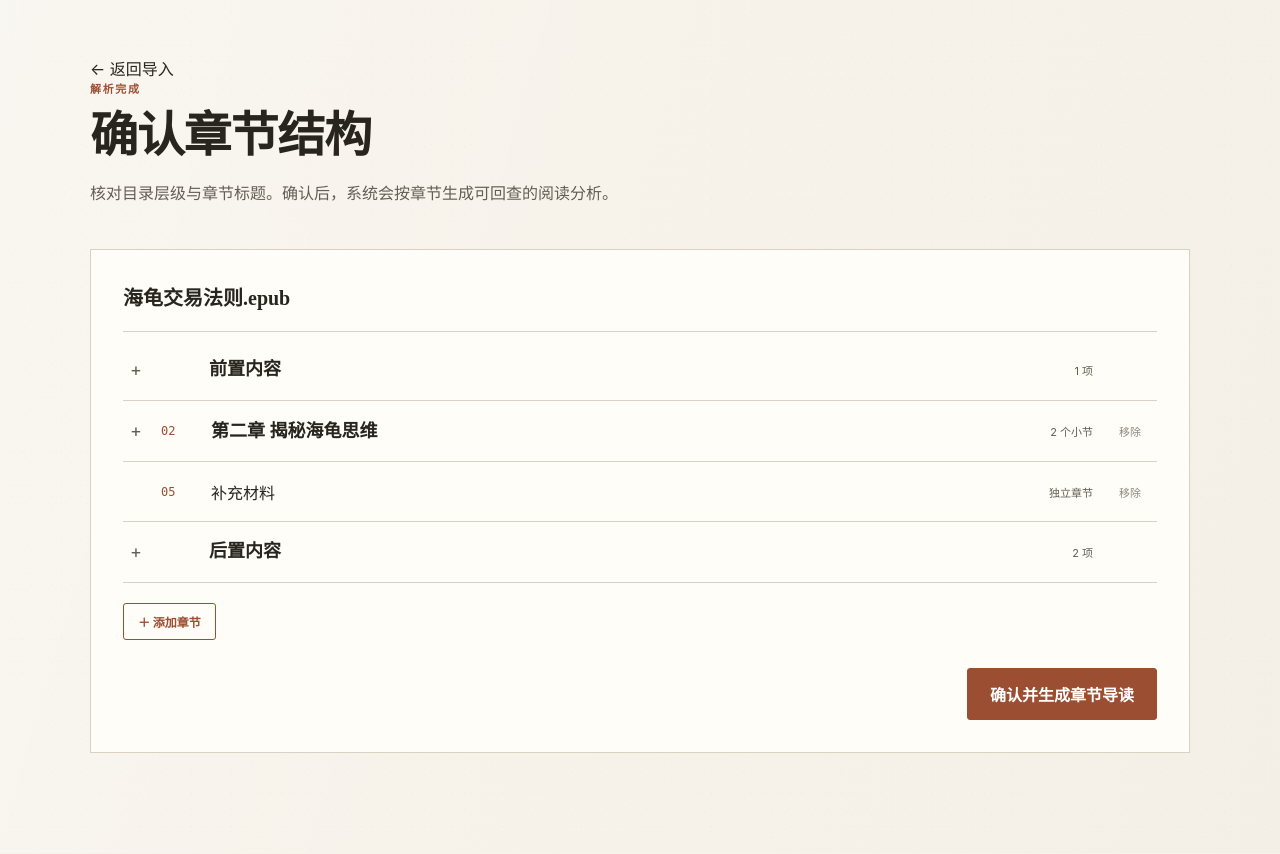
Test: ChapterEditor hierarchy › folds classified front and back matter while keeping unknown entries visible
Expected: the field showing "扉页" is not shown
Expected: the field showing "后记1" is not shown
What coordinates should you click on to do the following:
click the button named "展开前置内容"
I would click on:
 (136, 370)
Its box is [123,357,149,383].
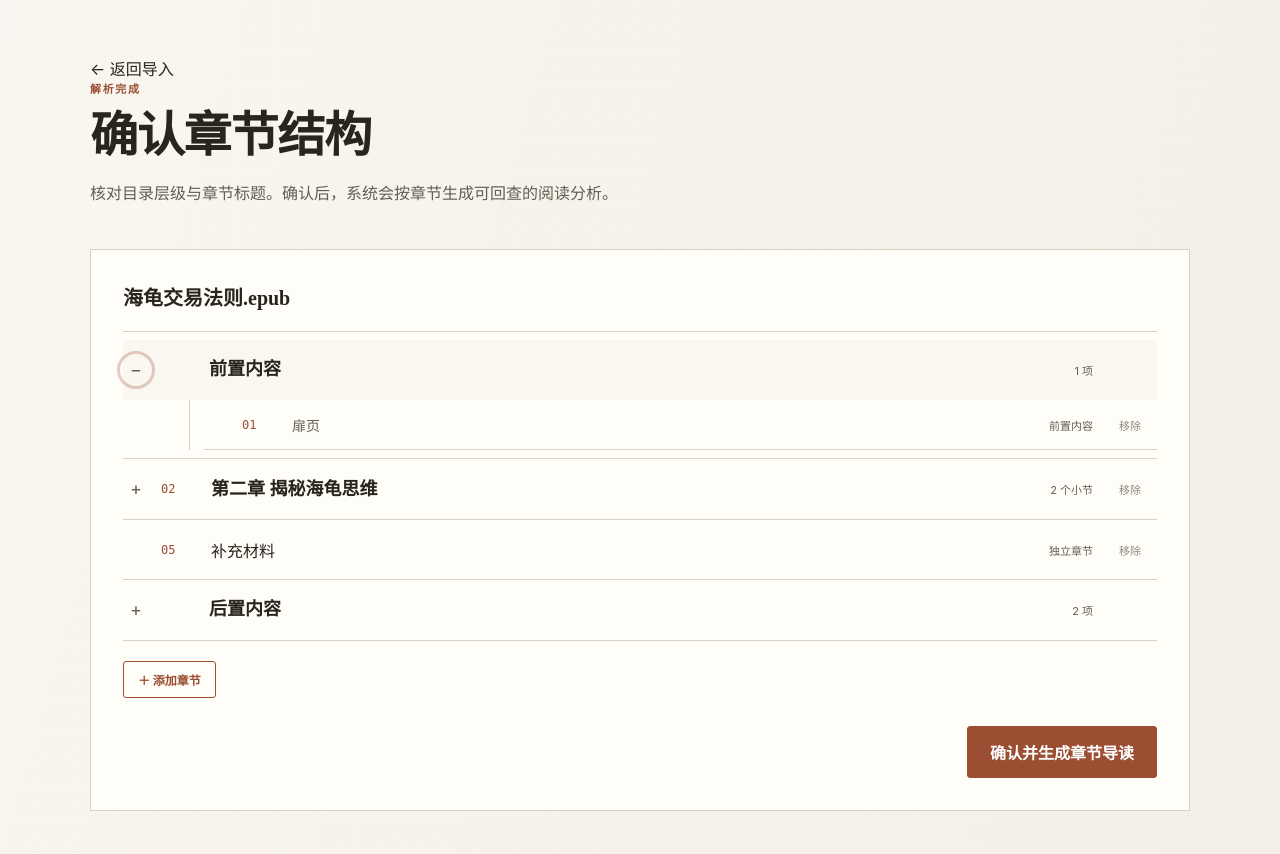
What coordinates should you click on to do the following:
click the button named "展开后置内容"
I would click on:
 (136, 610)
Its box is [123,597,149,623].
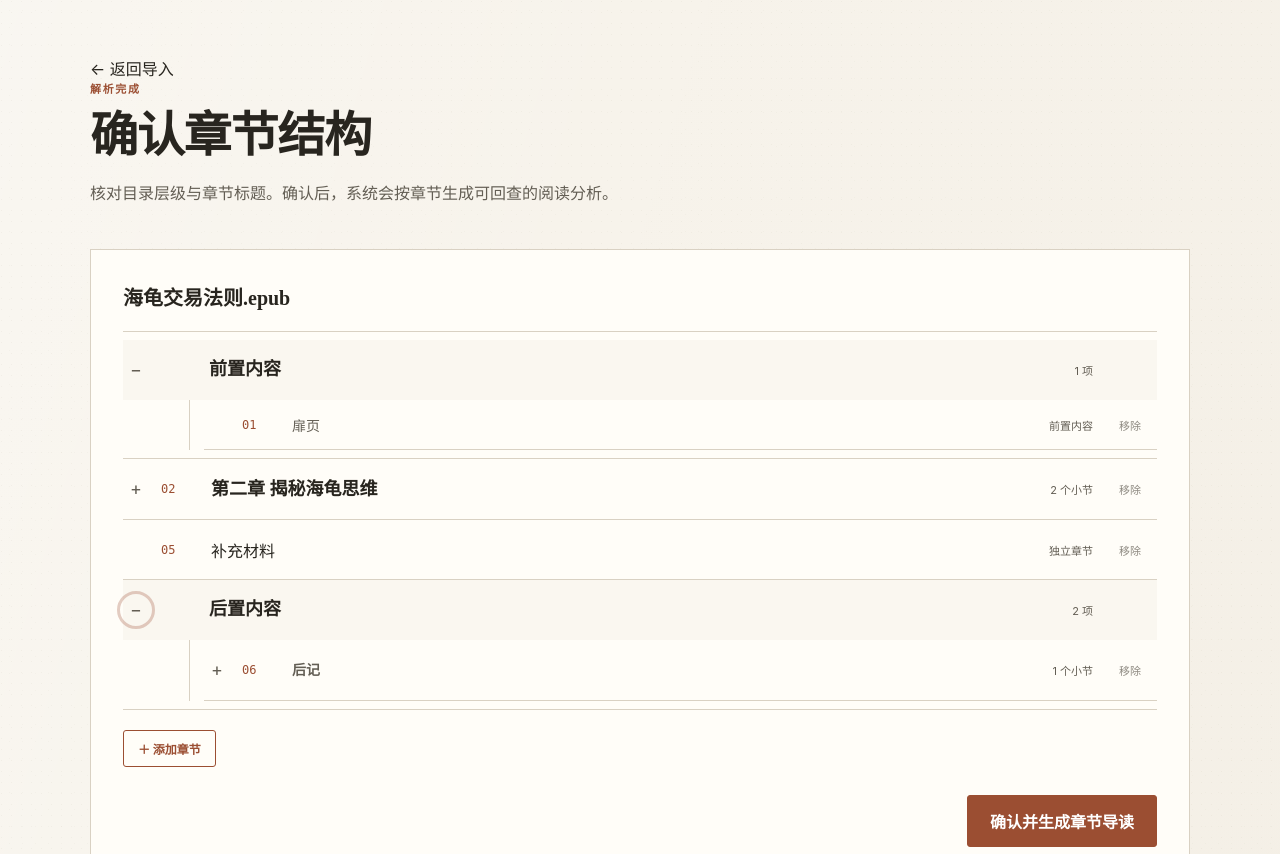
Result: the field showing "扉页" next to "01" is shown at [290,408,1001,440]
Result: the field showing "后记" next to "06" is shown at [290,653,1001,687]
What coordinates should you click on to do the following:
click the button named "展开「后记」的小节"
I would click on:
 (217, 670)
Its box is [204,657,230,683].
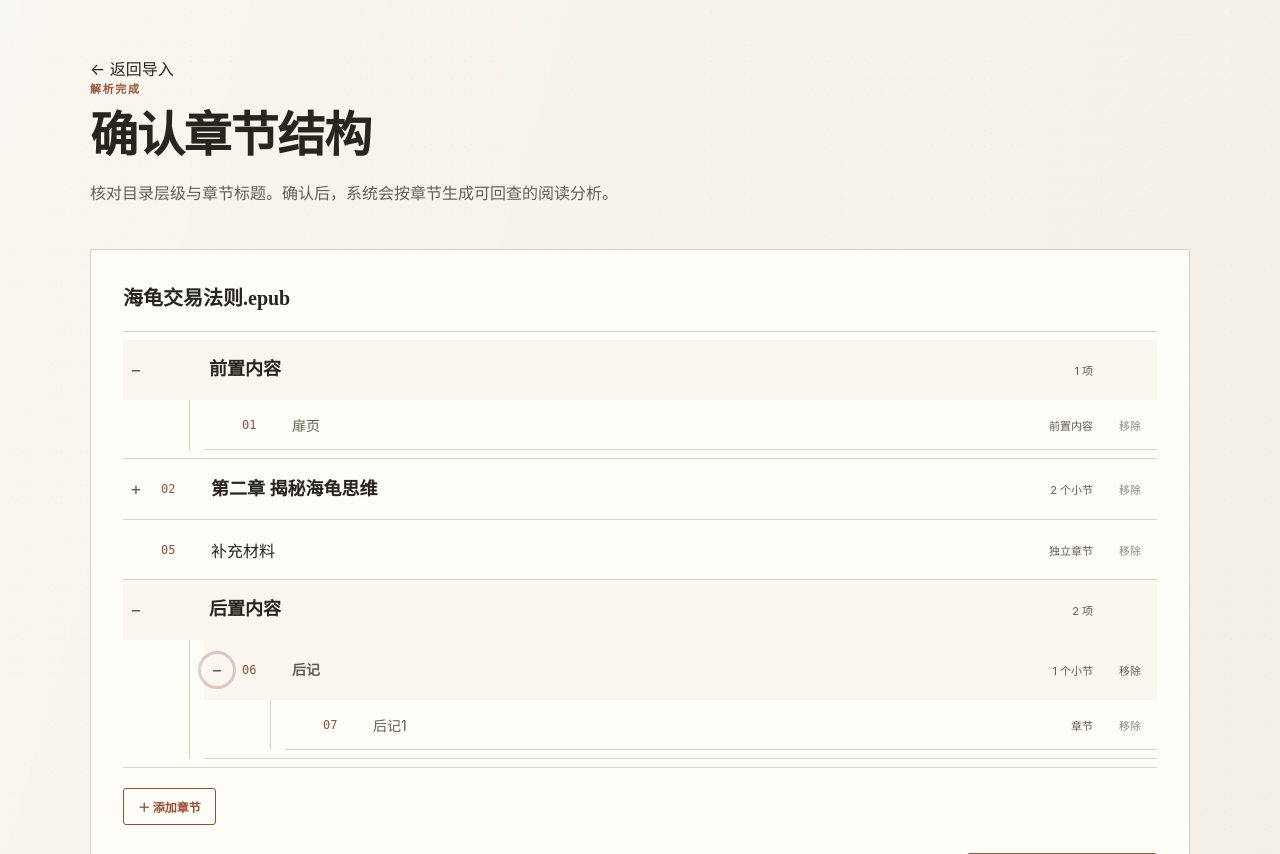
Result: the field showing "后记1" next to "07" is shown at [371,708,1001,740]
